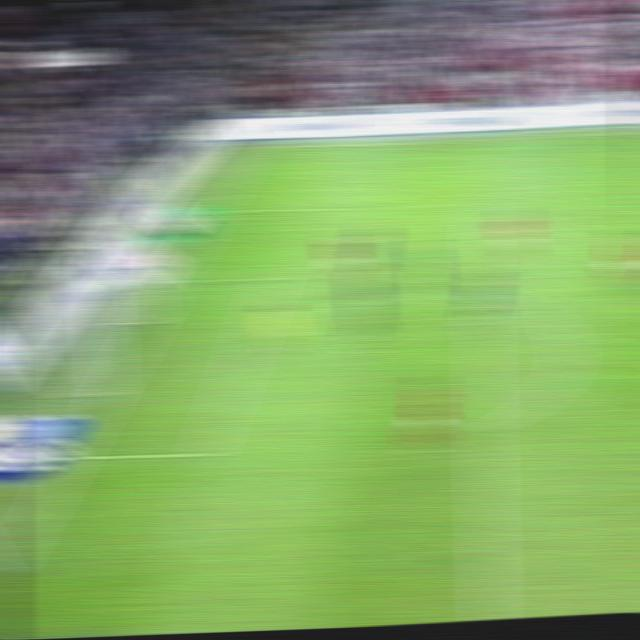bigarea_top_inner: (469, 196, 494, 209)
bigarea_top_outter: (200, 205, 225, 216), (198, 207, 224, 217)
bottom_arc_area_intersection: (472, 416, 502, 438)
corner: (236, 145, 262, 152)
smallarea_bottom_inner: (190, 437, 223, 465)
smallarea_bottom_outter: (56, 445, 88, 466)
smallarea_top_inner: (259, 270, 288, 286)
smallarea_top_outter: (159, 272, 188, 287)
